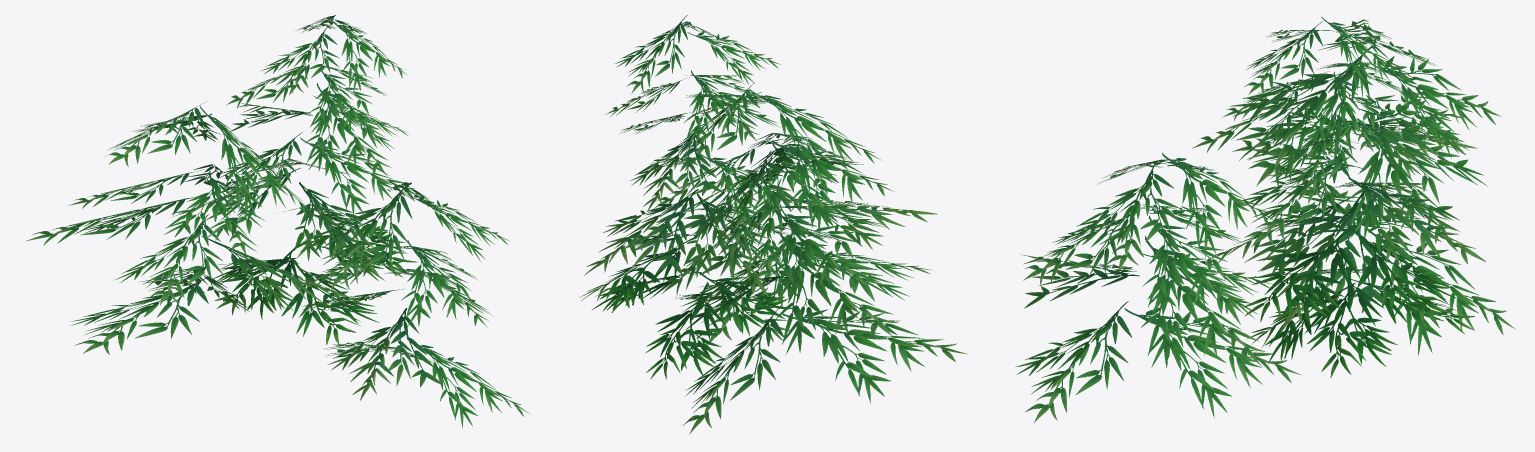
The model's file is Area_11_57.fbx.
3 renders of one model, left to right at view 1: azimuth 30°, elevation 25°; view 2: azimuth 150°, elevation 25°; view 3: azimuth 270°, elevation 25°, orthographic. The views are drawn at different scales.
Visible parts, largest first — view 1: Area_11_57; view 2: Area_11_57; view 3: Area_11_57.
Part boxes in pixels (left/top/right/bottom): Area_11_57: left=26, top=14, right=529, bottom=427; Area_11_57: left=579, top=15, right=968, bottom=434; Area_11_57: left=1015, top=16, right=1515, bottom=423.
Bounding box in the file's own units: 1592 × 1367 × 1681.
